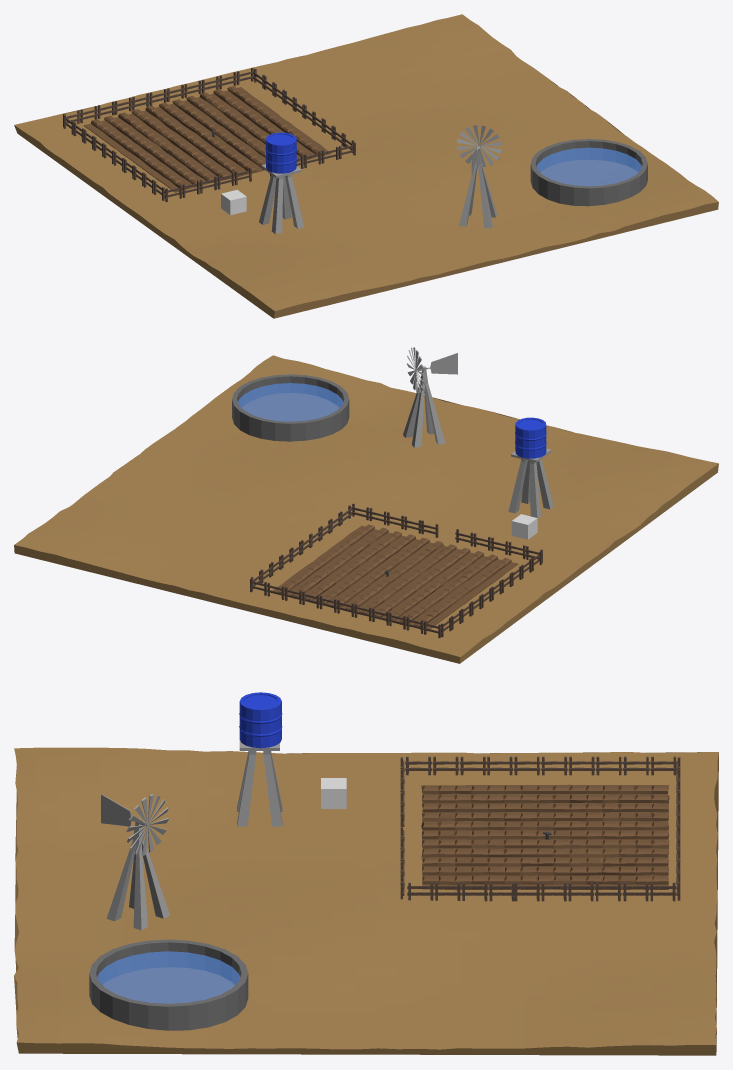
File: 2nd level.fbx
The picture shows the model from 3 angles, top to bottom: view 1: azimuth 30°, elevation 25°; view 2: azimuth 150°, elevation 25°; view 3: azimuth 270°, elevation 25°; orthographic projection. The views are drawn at different scales.
Parts seen in each view (by area): view 1: Ground, FarmSoil, Resevoir, Fences, WaterTower, WindmillBase, Windmill Blades, Pump Cube; view 2: Ground, FarmSoil, Resevoir, Fences, WaterTower, WindmillBase, Pump Cube; view 3: Ground, FarmSoil, Resevoir, Fences, WaterTower, WindmillBase, Windmill Blades, Pump Cube.
Boxes of the visible parts, x1,y1,x2,y2 form: Ground: [14, 14, 718, 318]; FarmSoil: [83, 86, 331, 192]; Resevoir: [530, 139, 647, 206]; Fences: [63, 67, 355, 202]; WaterTower: [259, 132, 304, 234]; WindmillBase: [459, 146, 497, 228]; Windmill Blades: [456, 125, 502, 166]; Pump Cube: [221, 189, 246, 215]; Ground: [14, 355, 718, 663]; FarmSoil: [271, 524, 518, 629]; Resevoir: [232, 374, 349, 441]; Fences: [250, 503, 542, 638]; WaterTower: [508, 417, 553, 518]; WindmillBase: [403, 353, 457, 447]; Pump Cube: [511, 514, 537, 539]; Ground: [14, 747, 718, 1055]; FarmSoil: [421, 784, 669, 890]; Resevoir: [89, 939, 248, 1030]; Fences: [400, 756, 680, 901]; WaterTower: [237, 692, 282, 826]; WindmillBase: [101, 794, 169, 930]; Windmill Blades: [126, 794, 168, 855]; Pump Cube: [321, 778, 346, 808].
Bounding box in the file's own units: 2631 × 566 × 2632.
